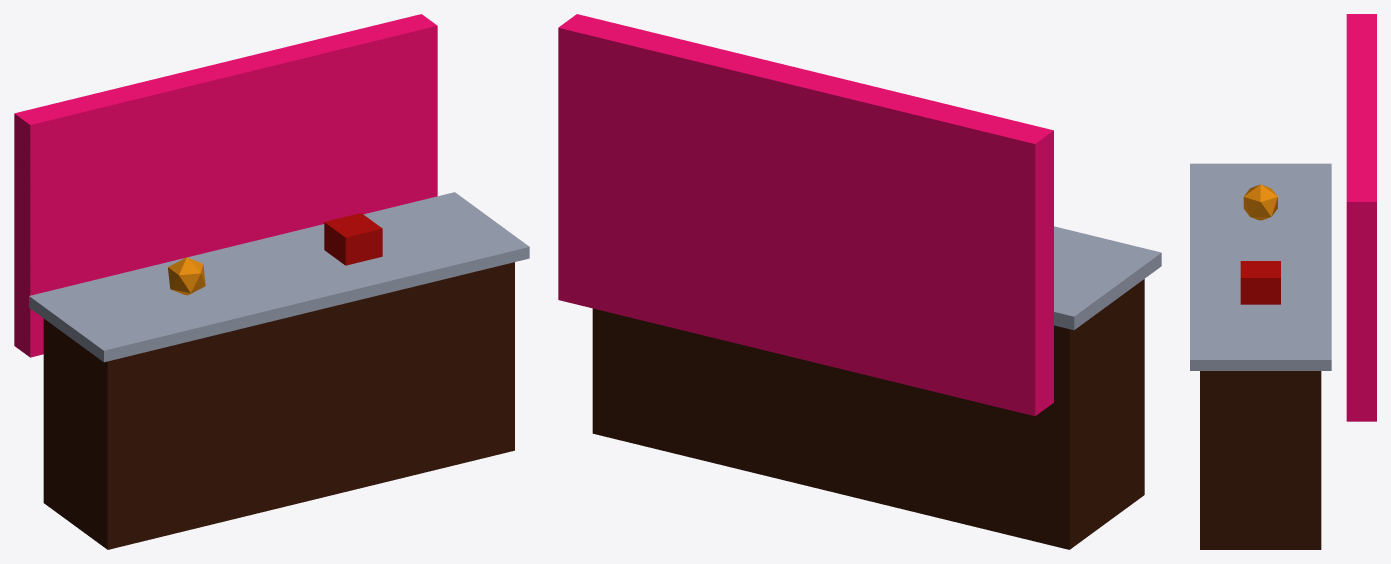
File: snack_bar.obj
The picture shows the model from 3 angles, left to right: view 1: azimuth 30°, elevation 25°; view 2: azimuth 150°, elevation 25°; view 3: azimuth 270°, elevation 25°; orthographic projection. The views are drawn at different scales.
Visible parts, largest first — view 1: snack_bar; view 2: snack_bar; view 3: snack_bar.
Boxes of the visible parts, x1,y1,x2,y2 form: snack_bar: [14, 14, 529, 549]; snack_bar: [558, 14, 1161, 549]; snack_bar: [1190, 14, 1376, 549].
Size of the model in its own units: 2.3 by 1.9 by 0.925.
